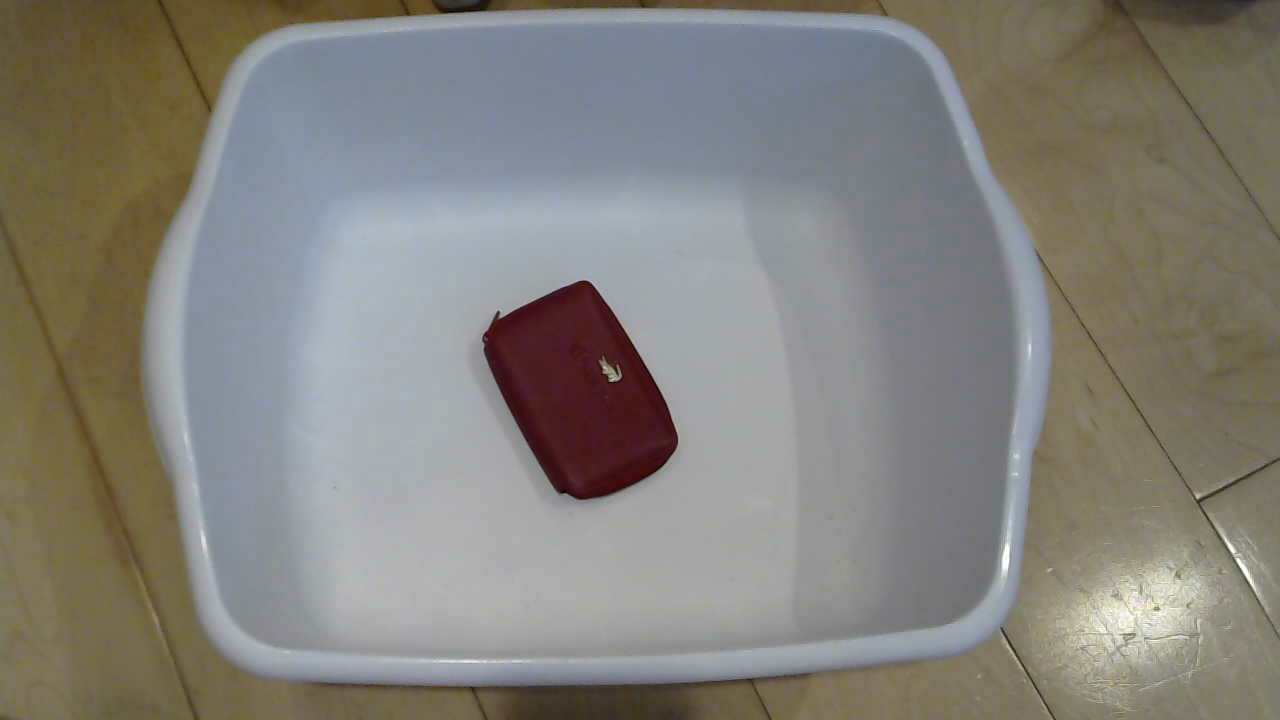wallet: (462, 278, 698, 518)
